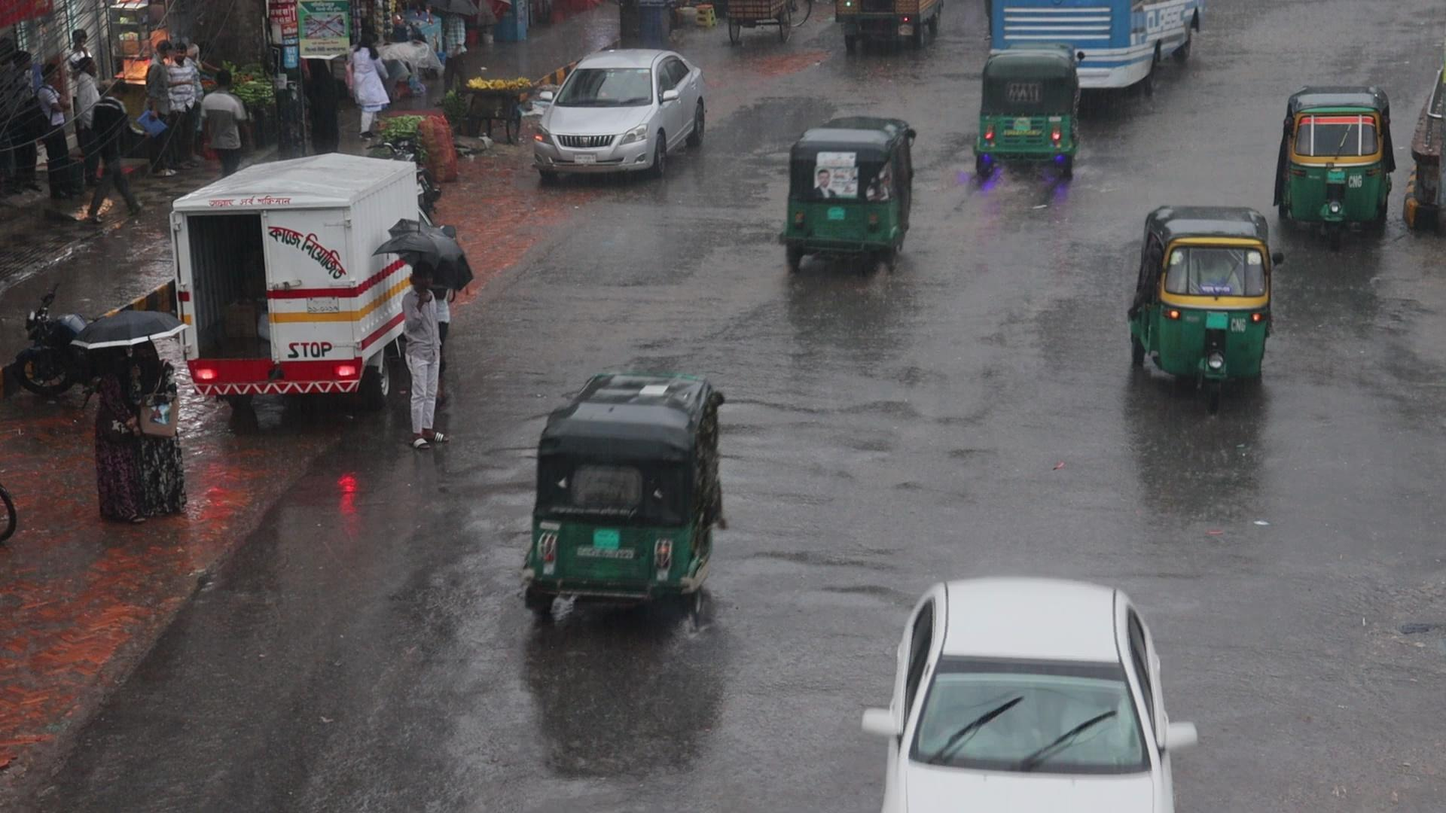Car: (864, 573, 1194, 813), (532, 48, 708, 178)
